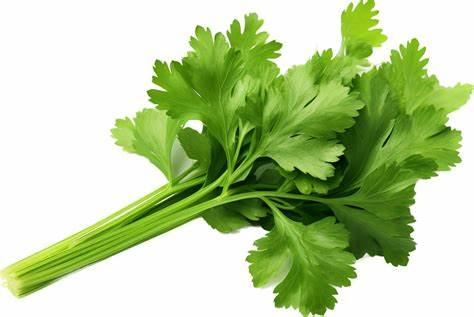Cilantro: (1, 1, 473, 315)
